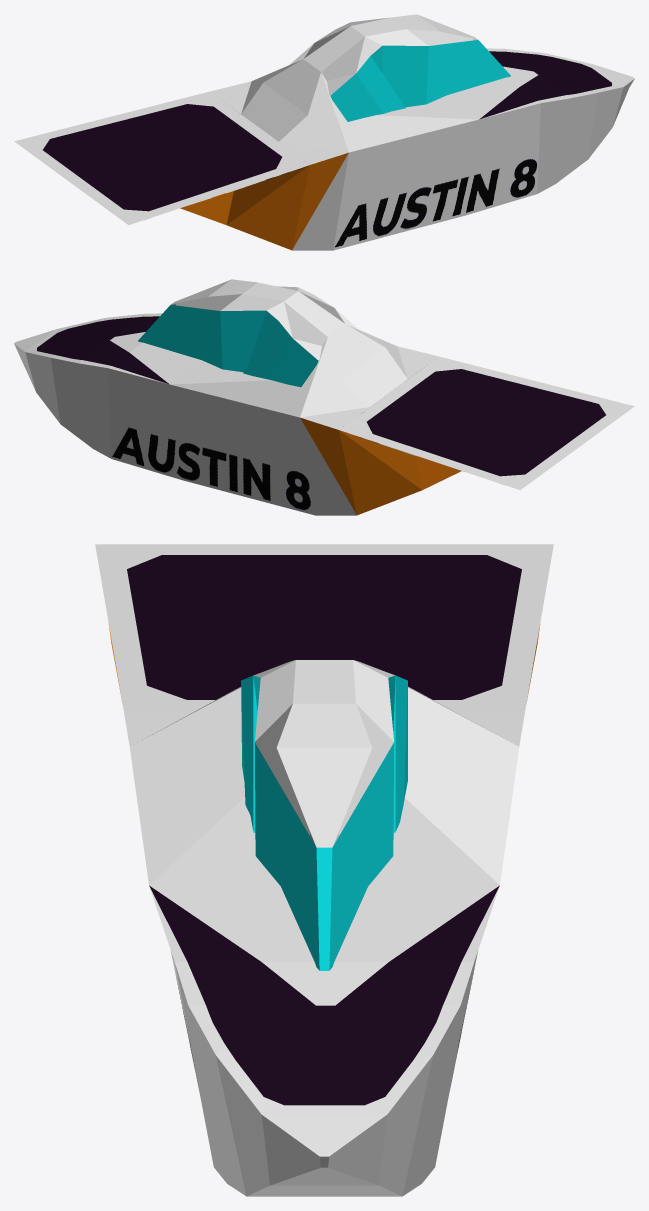
The model's file is daybreak.glb.
3 renders of one model, top to bottom at view 1: azimuth 30°, elevation 25°; view 2: azimuth 150°, elevation 25°; view 3: azimuth 270°, elevation 25°, orthographic. The views are drawn at different scales.
Parts seen in each view (by area): view 1: Cube; view 2: Cube; view 3: Cube.
Boxes of the visible parts, bbox=[...] form: Cube: bbox=[14, 14, 634, 250]; Cube: bbox=[14, 279, 634, 515]; Cube: bbox=[95, 544, 553, 1196].
Size of the model in its own units: 9.46 by 2.9 by 3.34.
5 materials, 1 textured.
